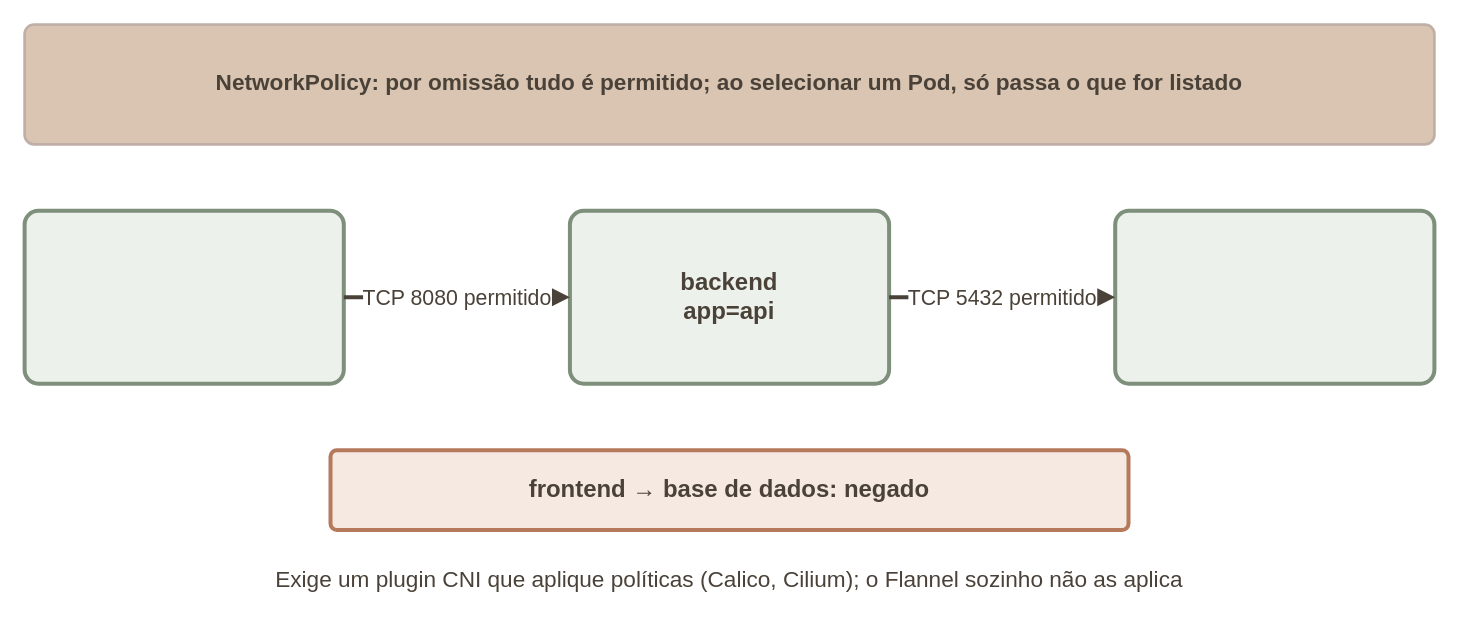
Image size: 1459x638. Some labels were removed from this diagram. The centre of each missing label's shape, as x and y in pixels:
base de dados app=db: point 1274,296
frontend app=web: point 183,296
